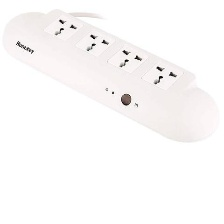three_eye_plug: (0, 7, 221, 146)
